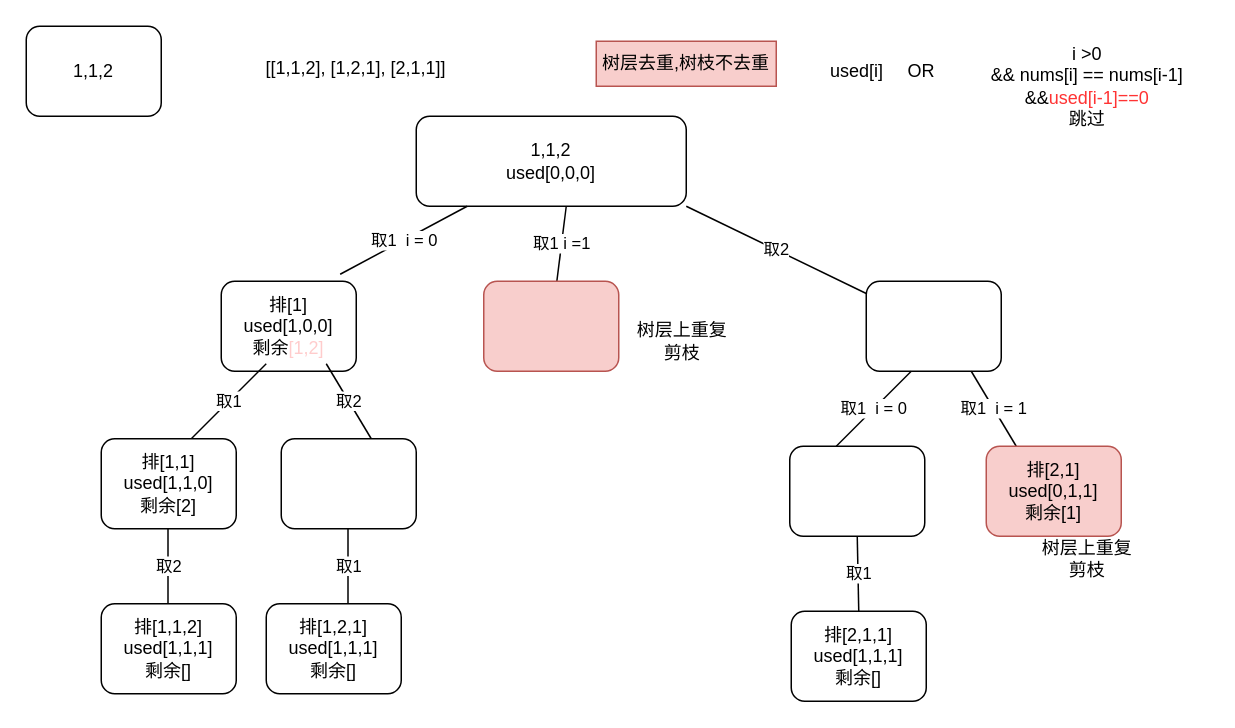
The diagram is 1235 pixels wide and 728 high, and some of its shapes have lost their labels. The shapes that lost their labels are listed below. From the top down, each one's box as (x1, y1, x2, y2) in pixels, then its label:
(482, 280, 619, 371): 排[1] used[0,1,0] 剩余[1,2]
(865, 280, 1001, 371): 排[2] used[0,0,1] 剩余[1,1]
(280, 437, 416, 529): 排[1,2] used[1,0,1] 剩余[1]
(788, 445, 925, 536): 排[2,1] used[1,0,1] 剩余 [1]
